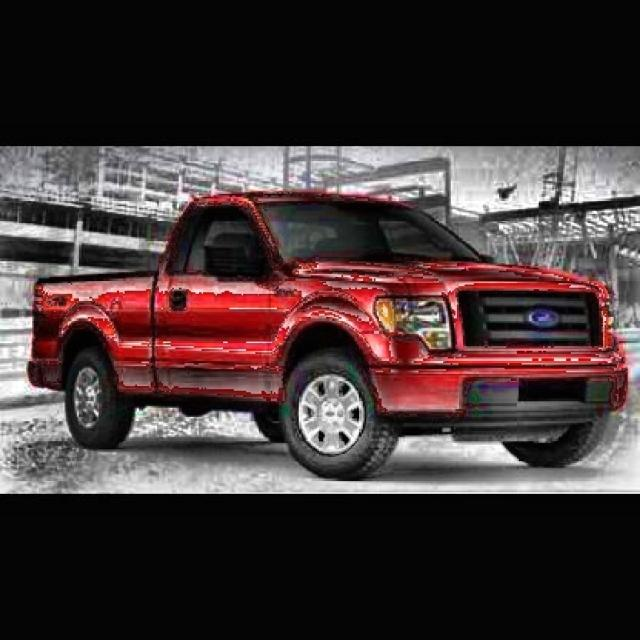maroon: (26, 190, 625, 476)
